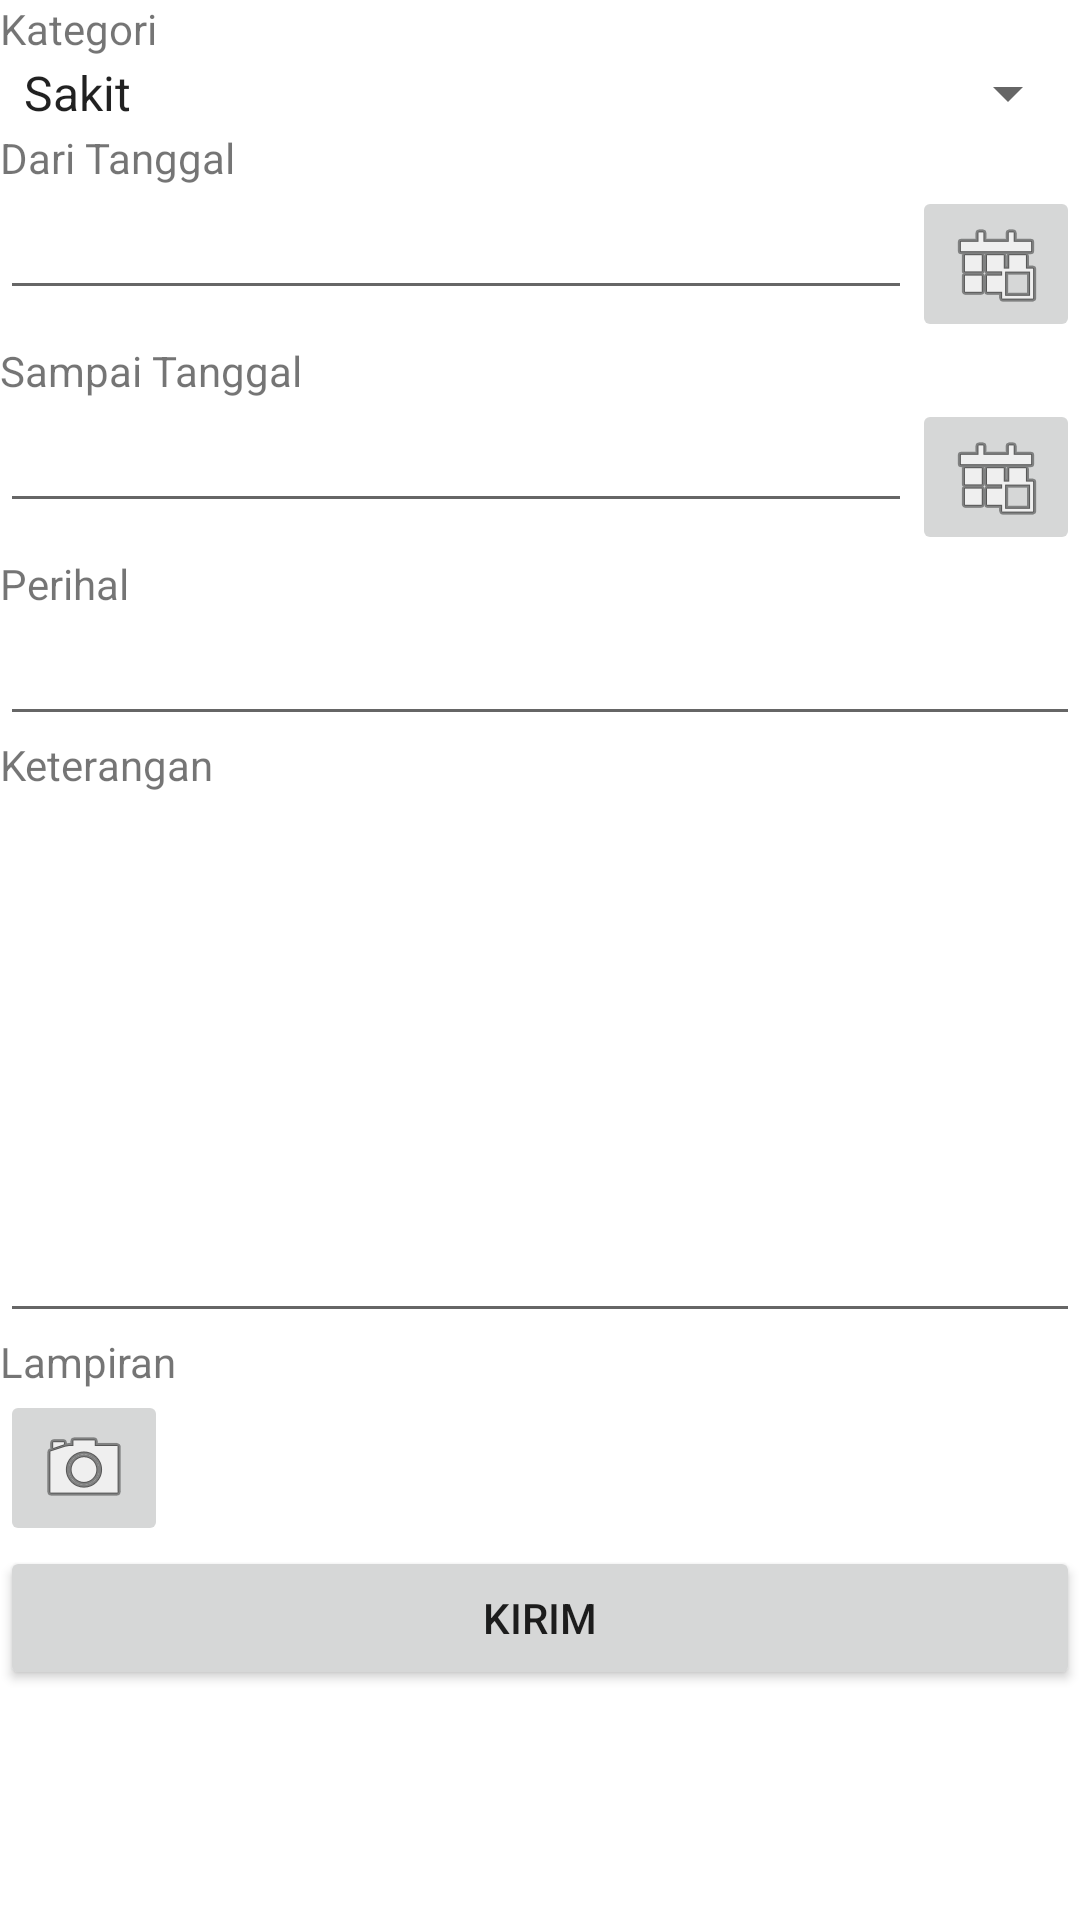

Where to tap for icons on this 1080w x 1920h app screen, as point (x, y):
camera: point (84, 1468)
today: point (996, 264), point (996, 477)
